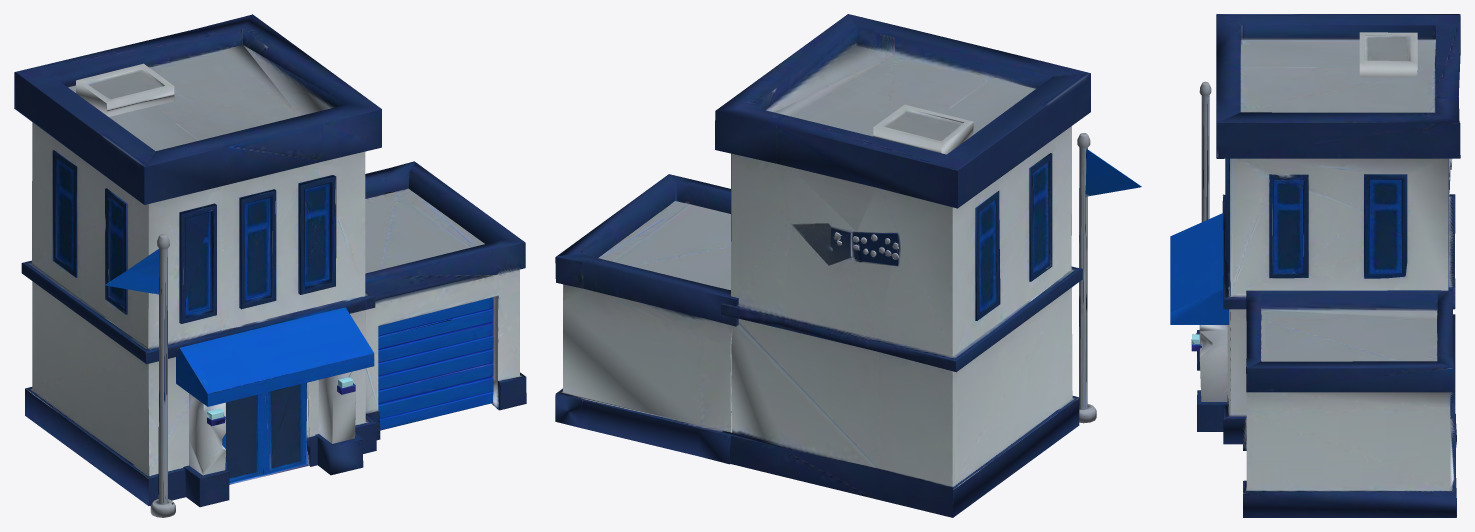
The model's file is police-station.glb.
3 renders of one model, left to right at view 1: azimuth 30°, elevation 25°; view 2: azimuth 150°, elevation 25°; view 3: azimuth 270°, elevation 25°, orthographic. The views are drawn at different scales.
Visible parts, largest first — view 1: geometry_0; view 2: geometry_0; view 3: geometry_0.
Part boxes in pixels (x1,y1,x2,y2): geometry_0: [14, 14, 526, 517]; geometry_0: [555, 14, 1141, 517]; geometry_0: [1170, 14, 1460, 517].
Size of the model in its own units: 0.9507 by 0.7104 by 0.5777.
1 material, 1 textured.
